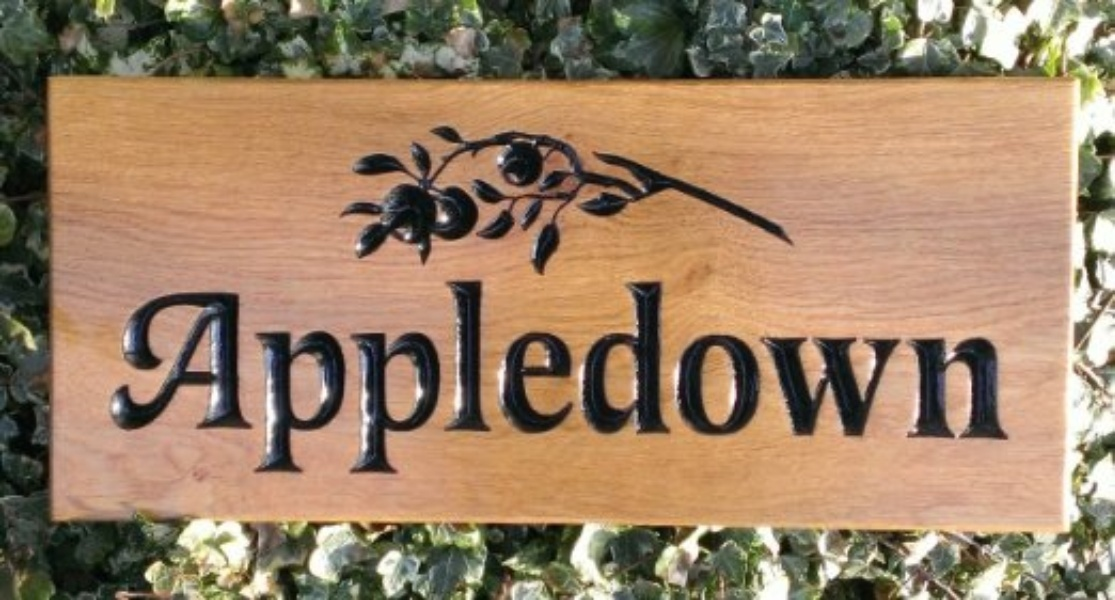text: (113, 278, 128, 475), (129, 278, 144, 475), (145, 278, 160, 475), (161, 278, 176, 475), (177, 278, 192, 475), (193, 278, 208, 475), (209, 278, 224, 475), (225, 278, 240, 475), (241, 278, 256, 475), (257, 278, 272, 475), (273, 278, 288, 475), (289, 278, 304, 475), (305, 278, 320, 475), (321, 278, 336, 475), (337, 278, 352, 475), (353, 278, 368, 475), (369, 278, 384, 475), (385, 278, 400, 475), (401, 278, 416, 475), (417, 278, 432, 475), (433, 278, 448, 475), (449, 278, 464, 475), (465, 278, 480, 475), (481, 278, 496, 475), (497, 278, 512, 475), (513, 278, 528, 475), (529, 278, 544, 475), (545, 278, 560, 475), (561, 278, 576, 475), (577, 278, 592, 475), (593, 278, 608, 475), (609, 278, 624, 475), (625, 278, 640, 475), (641, 278, 656, 475), (657, 278, 672, 475), (673, 278, 688, 475), (689, 278, 704, 475), (705, 278, 720, 475), (721, 278, 736, 475), (737, 278, 752, 475), (753, 278, 768, 475), (769, 278, 784, 475), (785, 278, 800, 475), (801, 278, 816, 475), (817, 278, 832, 475), (833, 278, 848, 475), (849, 278, 864, 475), (865, 278, 880, 475), (881, 278, 896, 475), (897, 278, 912, 475), (913, 278, 928, 475), (929, 278, 944, 475), (945, 278, 960, 475), (961, 278, 976, 475), (977, 278, 992, 475), (993, 278, 1008, 475), (1009, 278, 1015, 475), (107, 278, 112, 475)
